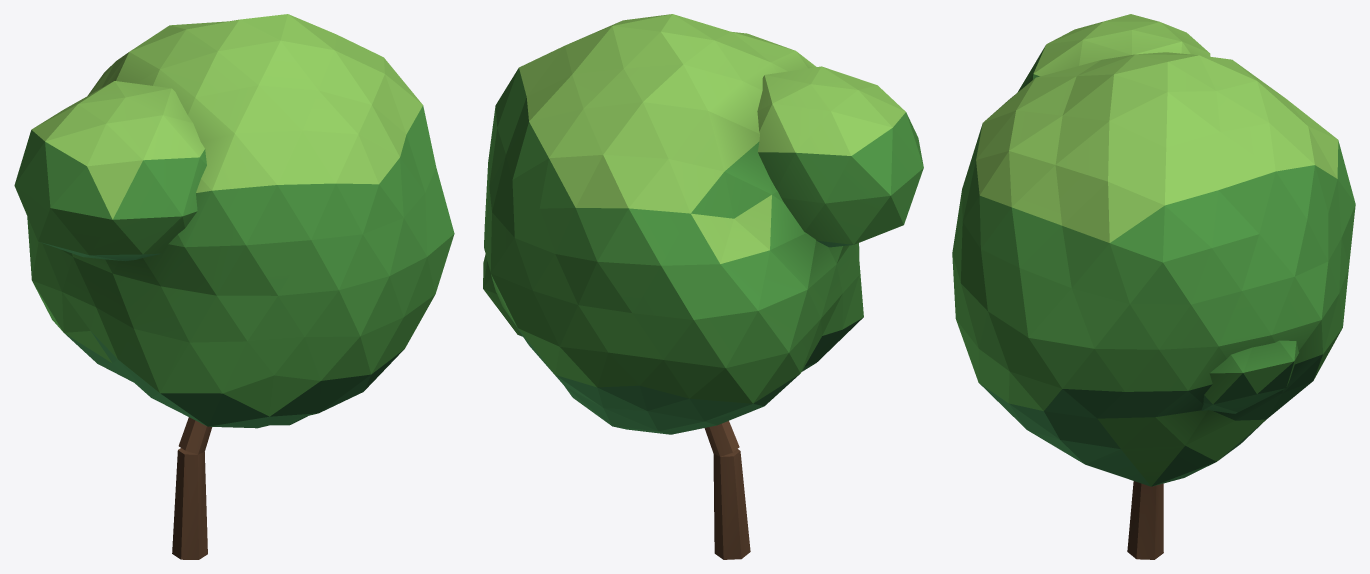
File: tree_ornamental_a_small.glb
The picture shows the model from 3 angles, left to right: view 1: azimuth 30°, elevation 25°; view 2: azimuth 150°, elevation 25°; view 3: azimuth 270°, elevation 25°; orthographic projection.
Visible parts, largest first — view 1: Canopy, Trunk; view 2: Canopy, Trunk; view 3: Canopy, Trunk.
Boxes of the visible parts, x1,y1,x2,y2 form: Canopy: [14, 14, 454, 428]; Trunk: [172, 417, 212, 559]; Canopy: [483, 14, 923, 434]; Trunk: [704, 421, 750, 559]; Canopy: [952, 14, 1355, 486]; Trunk: [1127, 481, 1163, 559].
Bounding box in the file's own units: 4.06 × 5.04 × 3.54.
1 material, 1 textured.
